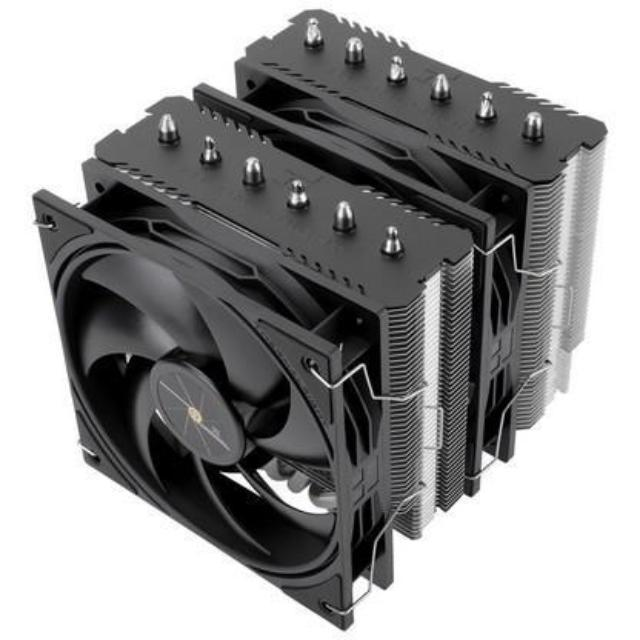CPU_Fan: (24, 0, 616, 640)
